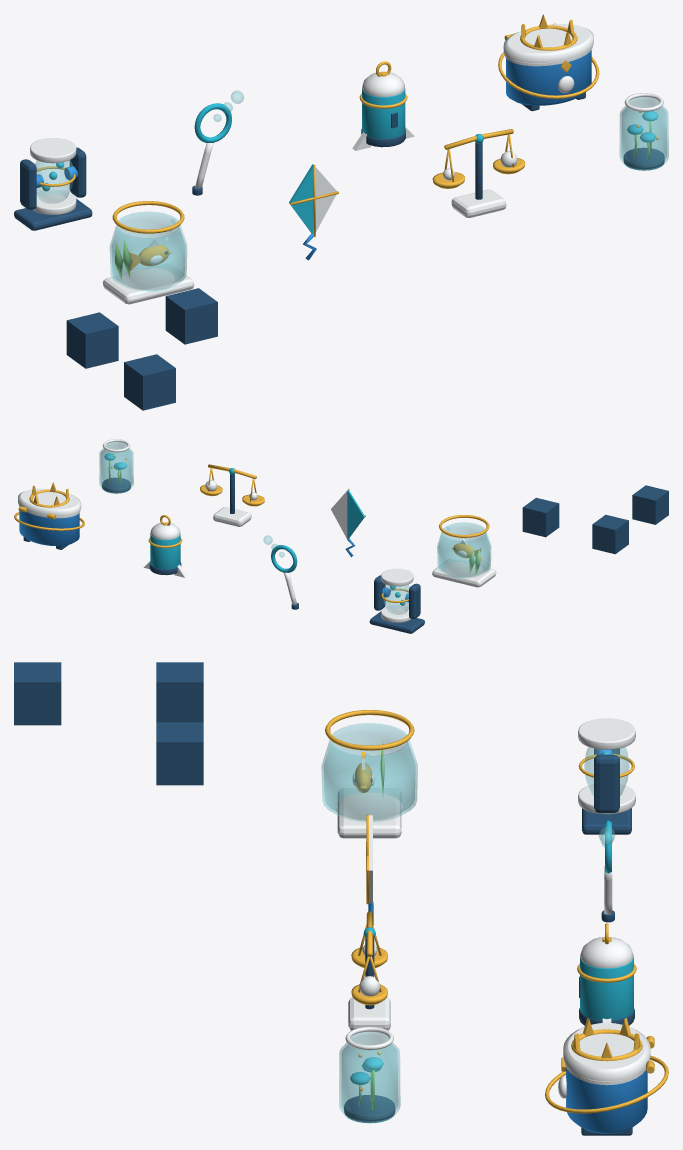
File: catalog-001.glb
3 renders of one model, top to bottom at view 1: azimuth 30°, elevation 25°; view 2: azimuth 150°, elevation 25°; view 3: azimuth 270°, elevation 25°, orthographic. The views are drawn at different scales.
Visible parts, largest first — view 1: aurora_aquarium__Fixed_glass_03, biolume_jar__Fixed_glass_02, chest_legendary__Fixed_blue_01, bubble_reactor__Fixed_dark_03, catalog_001__calibration_right, catalog_001__calibration_origin, catalog_001__calibration_front, chest_legendary__ChestLid_pearl_10, aurora_aquarium__Fixed_pearl_10, bubble_reactor__Fixed_pearl_06, burst_capsule__Fixed_teal_07, bubble_reactor__EvolvedCore_glass_04 (+9 smaller); view 2: aurora_aquarium__Fixed_glass_03, chest_legendary__Fixed_blue_01, biolume_jar__Fixed_glass_02, bubble_reactor__Fixed_dark_03, catalog_001__calibration_right, catalog_001__calibration_origin, catalog_001__calibration_front, chest_legendary__ChestLid_pearl_10, aurora_aquarium__Fixed_pearl_10, bubble_reactor__Fixed_pearl_06, burst_capsule__Fixed_teal_07, bubble_reactor__EvolvedCore_glass_04 (+8 smaller); view 3: aurora_aquarium__Fixed_glass_03, biolume_jar__Fixed_glass_02, chest_legendary__Fixed_blue_01, chest_legendary__ChestLid_pearl_10, catalog_001__calibration_right, catalog_001__calibration_front, aurora_aquarium__Fixed_pearl_10, catalog_001__calibration_origin, burst_capsule__Fixed_teal_07, bubble_reactor__Fixed_dark_03, bubble_reactor__Fixed_pearl_06, burst_capsule__Fixed_pearl_06 (+6 smaller).
Part boxes in pixels (x1=…): aurora_aquarium__Fixed_glass_03: x1=110, y1=212, x2=186, y2=291; biolume_jar__Fixed_glass_02: x1=619, y1=97, x2=668, y2=170; chest_legendary__Fixed_blue_01: x1=506, y1=50, x2=591, y2=105; bubble_reactor__Fixed_dark_03: x1=14, y1=147, x2=92, y2=230; catalog_001__calibration_right: x1=165, y1=288, x2=217, y2=344; catalog_001__calibration_origin: x1=66, y1=312, x2=118, y2=368; catalog_001__calibration_front: x1=124, y1=354, x2=175, y2=410; chest_legendary__ChestLid_pearl_10: x1=503, y1=24, x2=593, y2=63; aurora_aquarium__Fixed_pearl_10: x1=103, y1=264, x2=194, y2=304; bubble_reactor__Fixed_pearl_06: x1=30, y1=138, x2=76, y2=214; burst_capsule__Fixed_teal_07: x1=362, y1=88, x2=405, y2=138; bubble_reactor__EvolvedCore_glass_04: x1=35, y1=160, x2=73, y2=203; aurora_aquarium__Fixed_glass_03: x1=437, y1=522, x2=491, y2=578; chest_legendary__Fixed_blue_01: x1=19, y1=511, x2=79, y2=545; biolume_jar__Fixed_glass_02: x1=99, y1=442, x2=133, y2=493; bubble_reactor__Fixed_dark_03: x1=369, y1=575, x2=424, y2=633; catalog_001__calibration_right: x1=522, y1=497, x2=559, y2=537; catalog_001__calibration_origin: x1=592, y1=514, x2=628, y2=554; catalog_001__calibration_front: x1=632, y1=485, x2=668, y2=524; chest_legendary__ChestLid_pearl_10: x1=18, y1=488, x2=81, y2=516; aurora_aquarium__Fixed_pearl_10: x1=432, y1=559, x2=496, y2=587; bubble_reactor__Fixed_pearl_06: x1=381, y1=568, x2=413, y2=622; burst_capsule__Fixed_teal_07: x1=150, y1=533, x2=180, y2=569; bubble_reactor__EvolvedCore_glass_04: x1=383, y1=584, x2=409, y2=614; aurora_aquarium__Fixed_glass_03: x1=321, y1=723, x2=417, y2=822; biolume_jar__Fixed_glass_02: x1=339, y1=1031, x2=400, y2=1123; chest_legendary__Fixed_blue_01: x1=566, y1=1068, x2=647, y2=1133; chest_legendary__ChestLid_pearl_10: x1=563, y1=1022, x2=650, y2=1081; catalog_001__calibration_right: x1=156, y1=722, x2=203, y2=785; catalog_001__calibration_front: x1=14, y1=662, x2=61, y2=725; aurora_aquarium__Fixed_pearl_10: x1=337, y1=788, x2=401, y2=838; catalog_001__calibration_origin: x1=156, y1=662, x2=203, y2=722; burst_capsule__Fixed_teal_07: x1=580, y1=957, x2=633, y2=1020; bubble_reactor__Fixed_dark_03: x1=582, y1=748, x2=631, y2=834; bubble_reactor__Fixed_pearl_06: x1=578, y1=718, x2=635, y2=814; burst_capsule__Fixed_pearl_06: x1=580, y1=937, x2=633, y2=968.
Size of the model in its own units: 5.83 by 0.7654 by 3.87.
